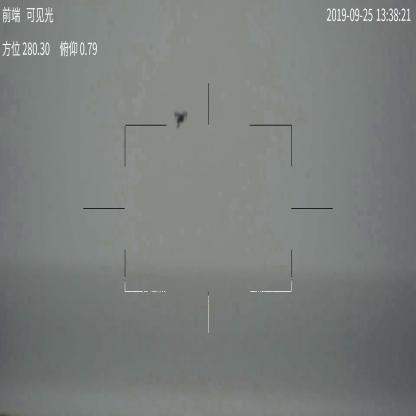uav: (172, 107, 189, 129)
